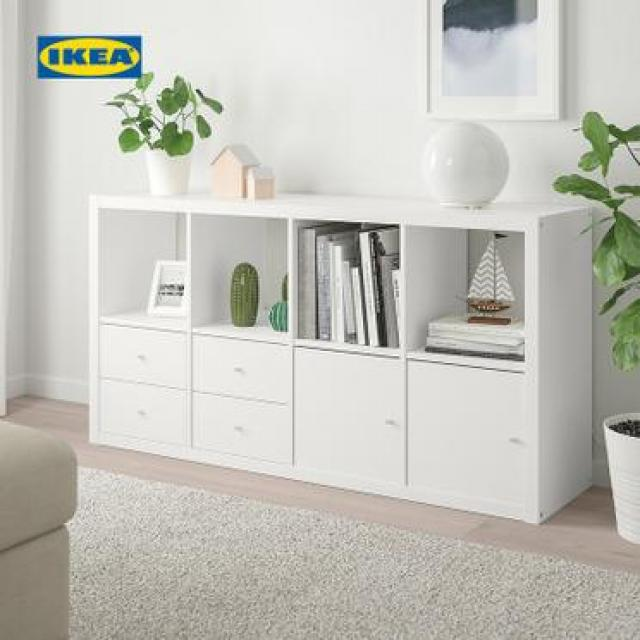Shelf: (86, 186, 604, 534)
